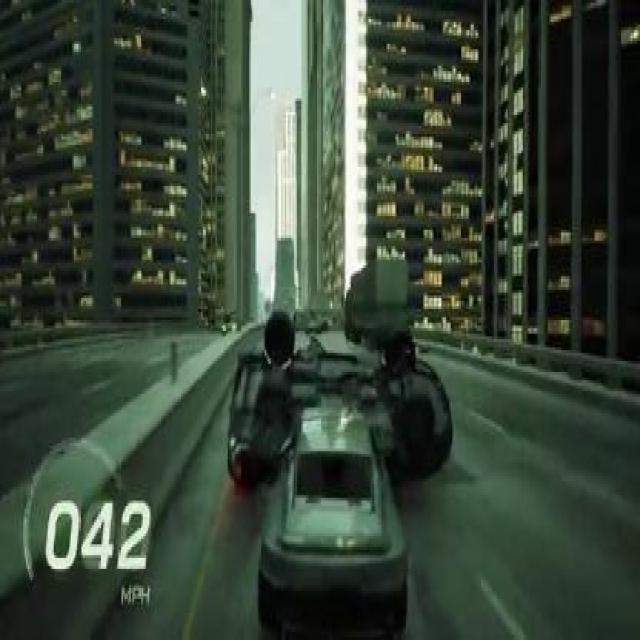accident: (222, 272, 458, 636)
